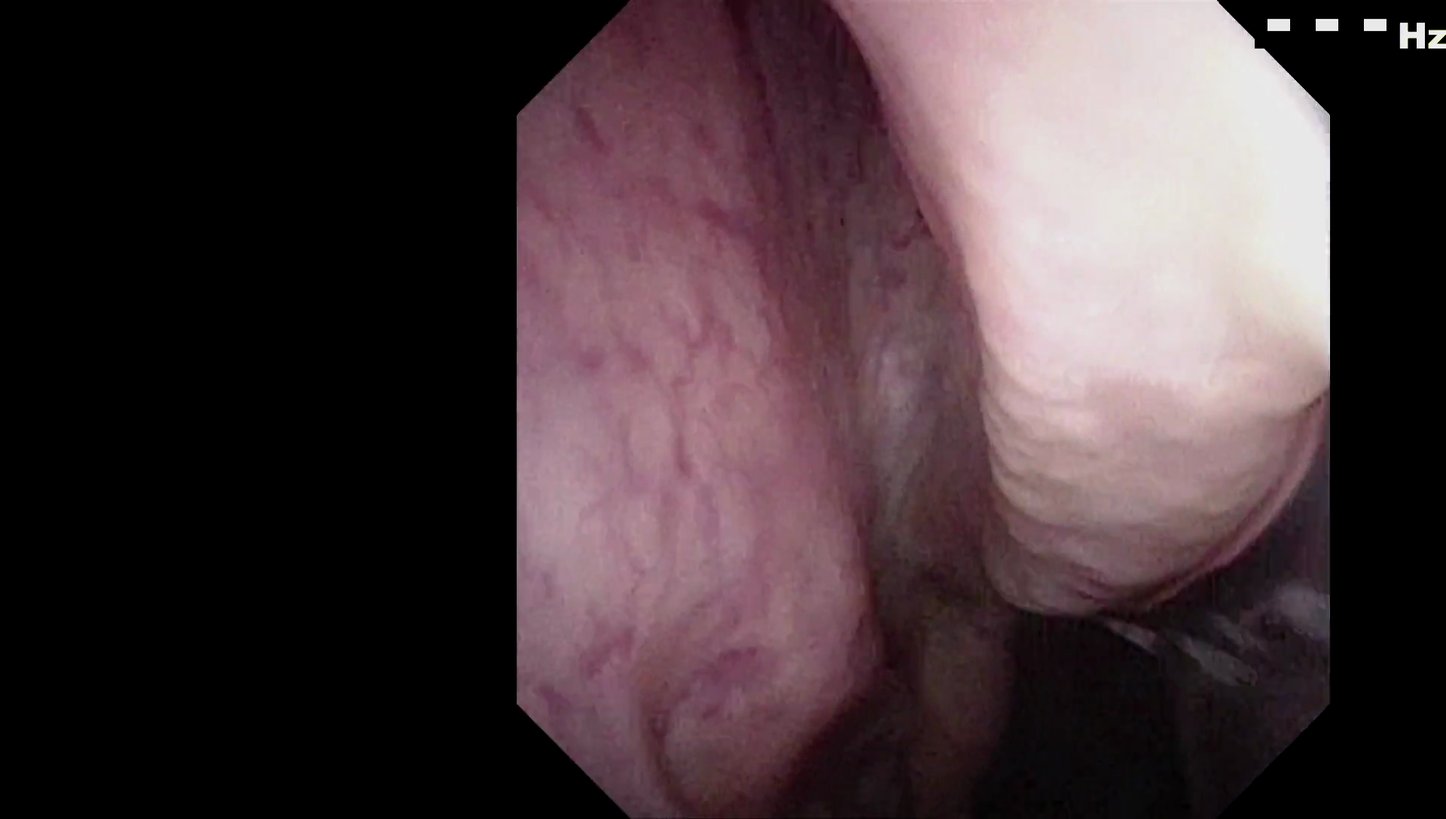close_wall: (891, 65, 1275, 412)
next: (962, 550, 1196, 819)
